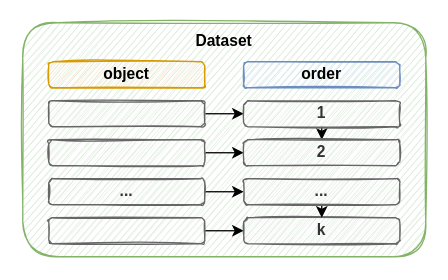
Image size: 448x280. Some labels were removed from this diagram. The shapes that lost their labels are listed below. From the top down, each one's centre as x and y in pixels, then its label:
(126,113): query_i, doc_m
(126,152): query_i, doc_n
(126,230): query_j, doc_n
